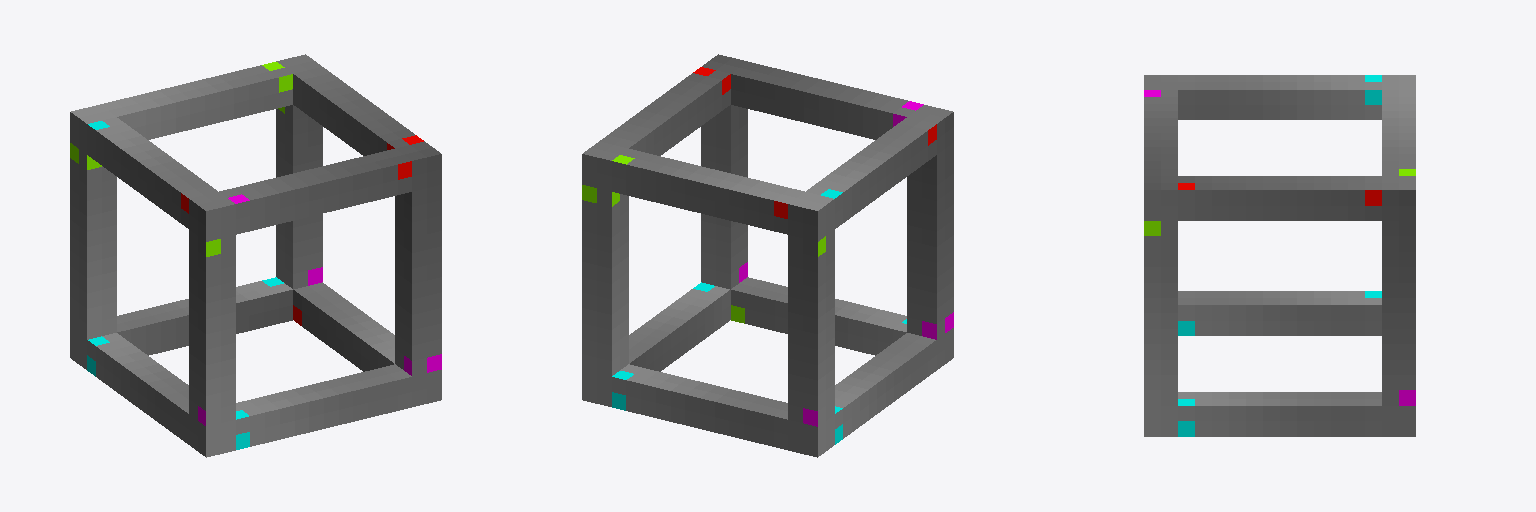
3 views of the same model, side by side, from view 1: azimuth 30°, elevation 25°; view 2: azimuth 150°, elevation 25°; view 3: azimuth 270°, elevation 25° (orthographic).
Visible parts, largest first — view 1: Frame_Cube; view 2: Frame_Cube; view 3: Frame_Cube.
Part boxes in pixels (x1,y1,x2,y2): Frame_Cube: (70, 54, 441, 457); Frame_Cube: (582, 54, 953, 457); Frame_Cube: (1144, 75, 1415, 436).
Bounding box in the file's own units: 1 × 1 × 1.
Materials: 1 (1 with a texture image).